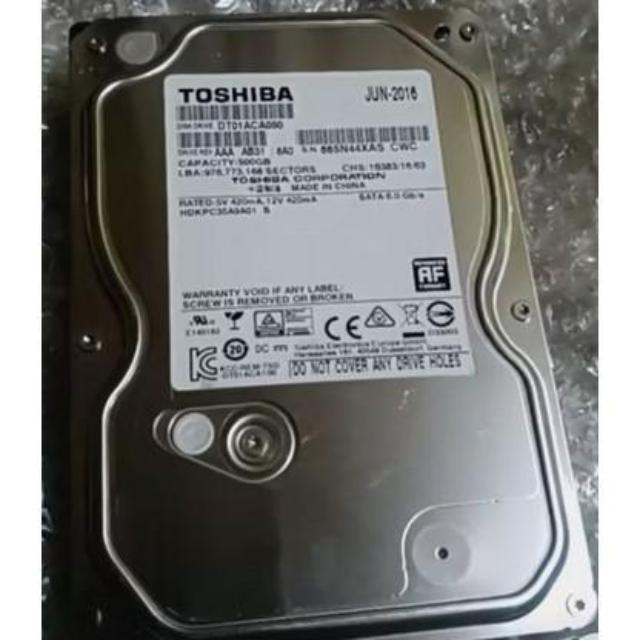DISK: (62, 15, 594, 640)
